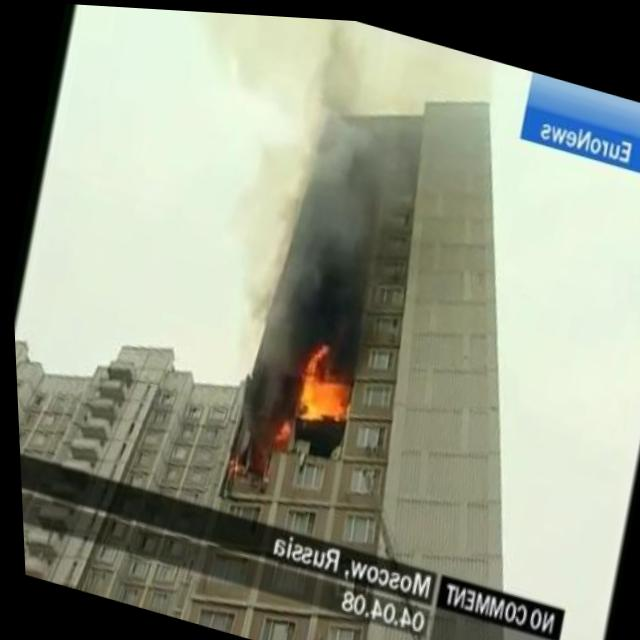fire: (284, 333, 359, 429), (270, 413, 292, 442)
